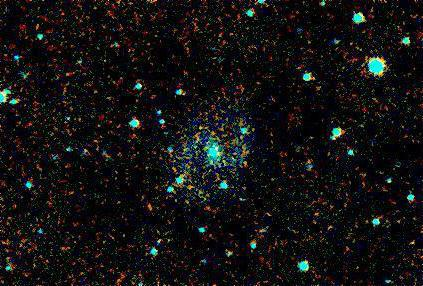star: (188, 105, 218, 135)
